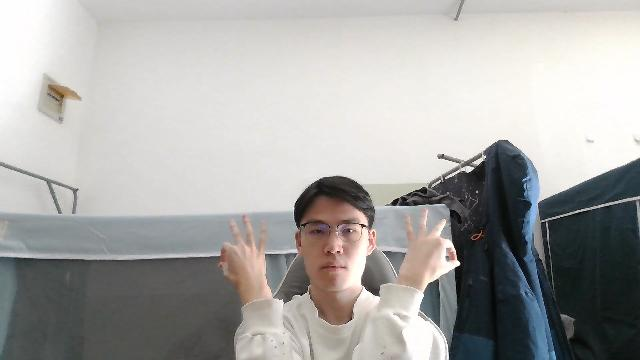ok: (396, 206, 460, 287), (218, 214, 271, 298)
